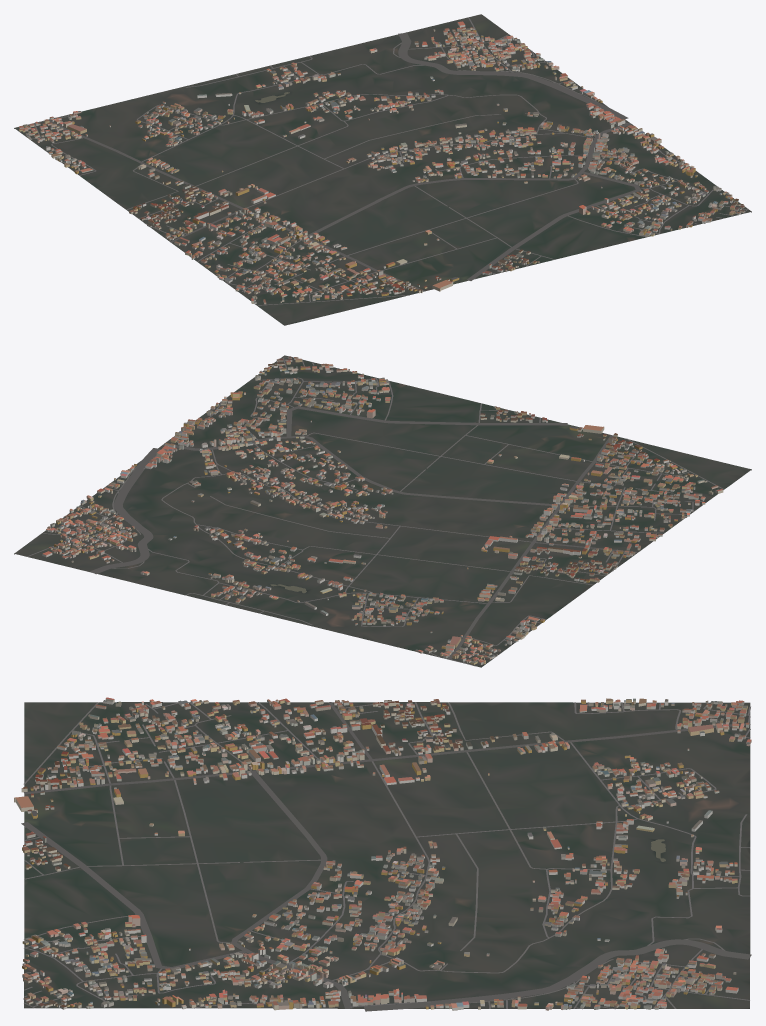
3 renders of one model, top to bottom at view 1: azimuth 30°, elevation 25°; view 2: azimuth 150°, elevation 25°; view 3: azimuth 270°, elevation 25°, orthographic. The views are drawn at different scales.
Visible parts, largest first — view 1: ground, buildings, roads; view 2: ground, buildings, roads; view 3: ground, buildings, roads.
Part boxes in pixels (bbox=[...]): ground: bbox=[14, 14, 751, 325]; buildings: bbox=[19, 21, 744, 304]; roads: bbox=[20, 17, 747, 305]; ground: bbox=[14, 355, 751, 667]; buildings: bbox=[42, 356, 723, 664]; roads: bbox=[27, 357, 724, 666]; ground: bbox=[24, 702, 750, 1008]; buildings: bbox=[14, 697, 751, 1010]; roads: bbox=[21, 702, 751, 1011].
Bounding box in the file's own units: 1417 × 23.97 × 1425.
